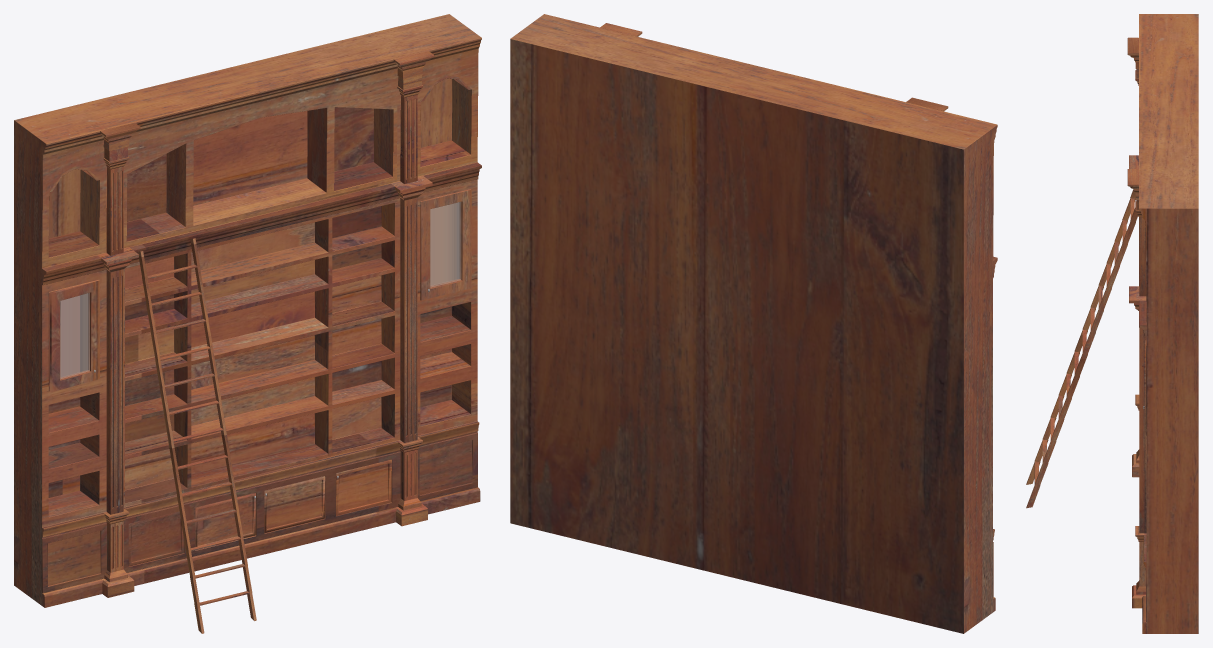
File: book-case .fbx
The picture shows the model from 3 angles, left to right: view 1: azimuth 30°, elevation 25°; view 2: azimuth 150°, elevation 25°; view 3: azimuth 270°, elevation 25°; orthographic projection. The views are drawn at different scales.
Parts seen in each view (by area): view 1: Bookcase, Pillar.001, Pillar, Bookcase.042, Bookcase.030, Bookcase.031, Bookcase.033, Bookcase.026, Bookcase.040, Bookcase.037, Ladder, Ladder.014 (+29 smaller); view 2: Bookcase.034, Bookcase; view 3: Bookcase, Pillar.001, Ladder.014, Ladder, Pillar.
Boxes of the visible parts, x1,y1,x2,y2 form: Bookcase: (14, 14, 481, 607); Pillar.001: (391, 51, 434, 526); Pillar: (97, 122, 140, 597); Bookcase.042: (43, 172, 479, 607); Bookcase.030: (421, 190, 471, 300); Bookcase.031: (50, 280, 99, 392); Bookcase.033: (264, 476, 325, 532); Bookcase.026: (193, 178, 325, 225); Bookcase.040: (336, 459, 391, 515); Bookcase.037: (430, 202, 459, 285); Ladder: (138, 251, 204, 633); Ladder.014: (190, 238, 256, 620); Bookcase.034: (510, 38, 963, 633); Bookcase: (511, 14, 997, 633); Bookcase: (1139, 14, 1198, 633); Pillar.001: (1127, 169, 1146, 608); Ladder.014: (1026, 208, 1138, 508); Ladder: (1026, 189, 1135, 484); Pillar: (1127, 37, 1139, 477).
Size of the model in its own units: 4.73 by 4.85 by 1.77.
